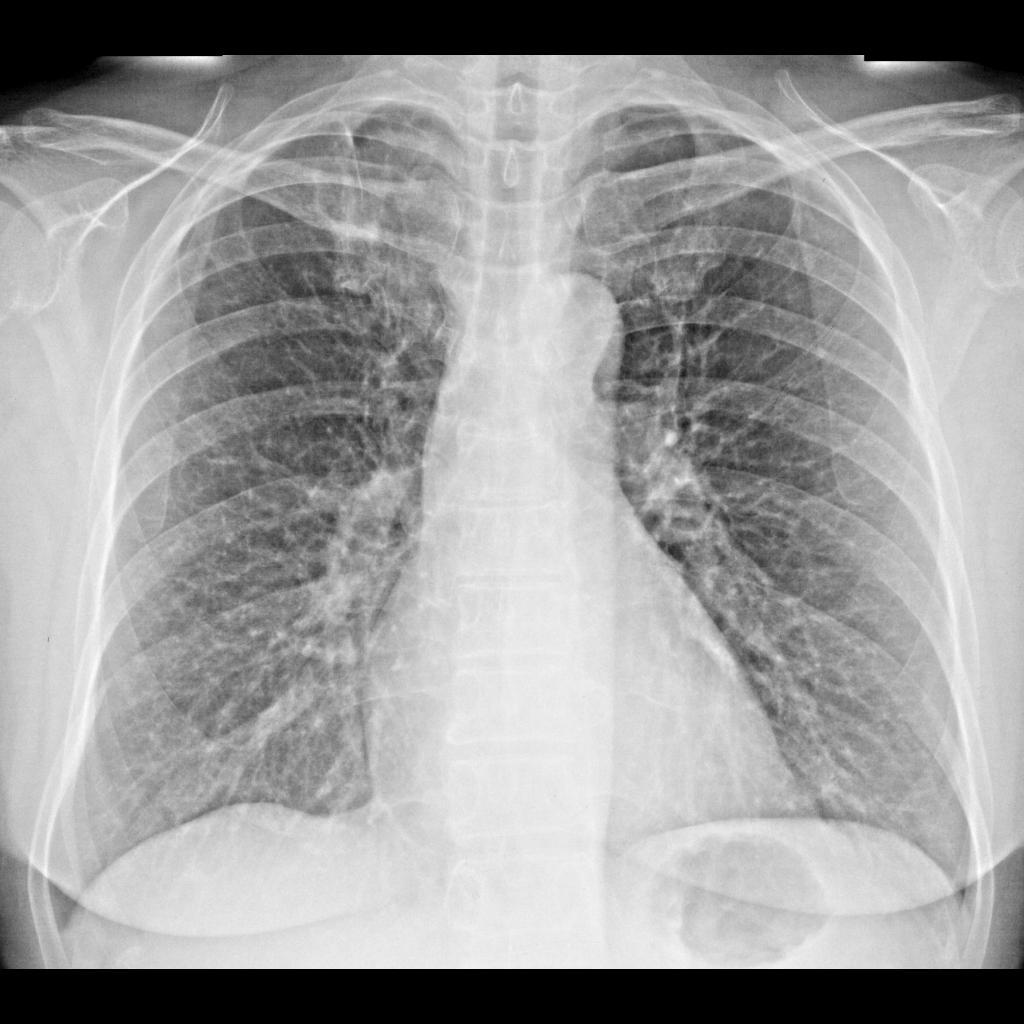Nodule: (330, 196, 388, 253)
